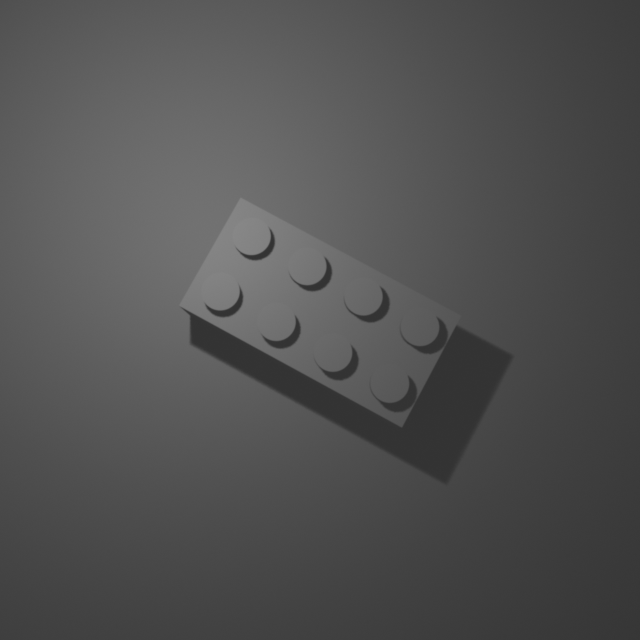lego_2x4: (177, 194, 463, 428)
